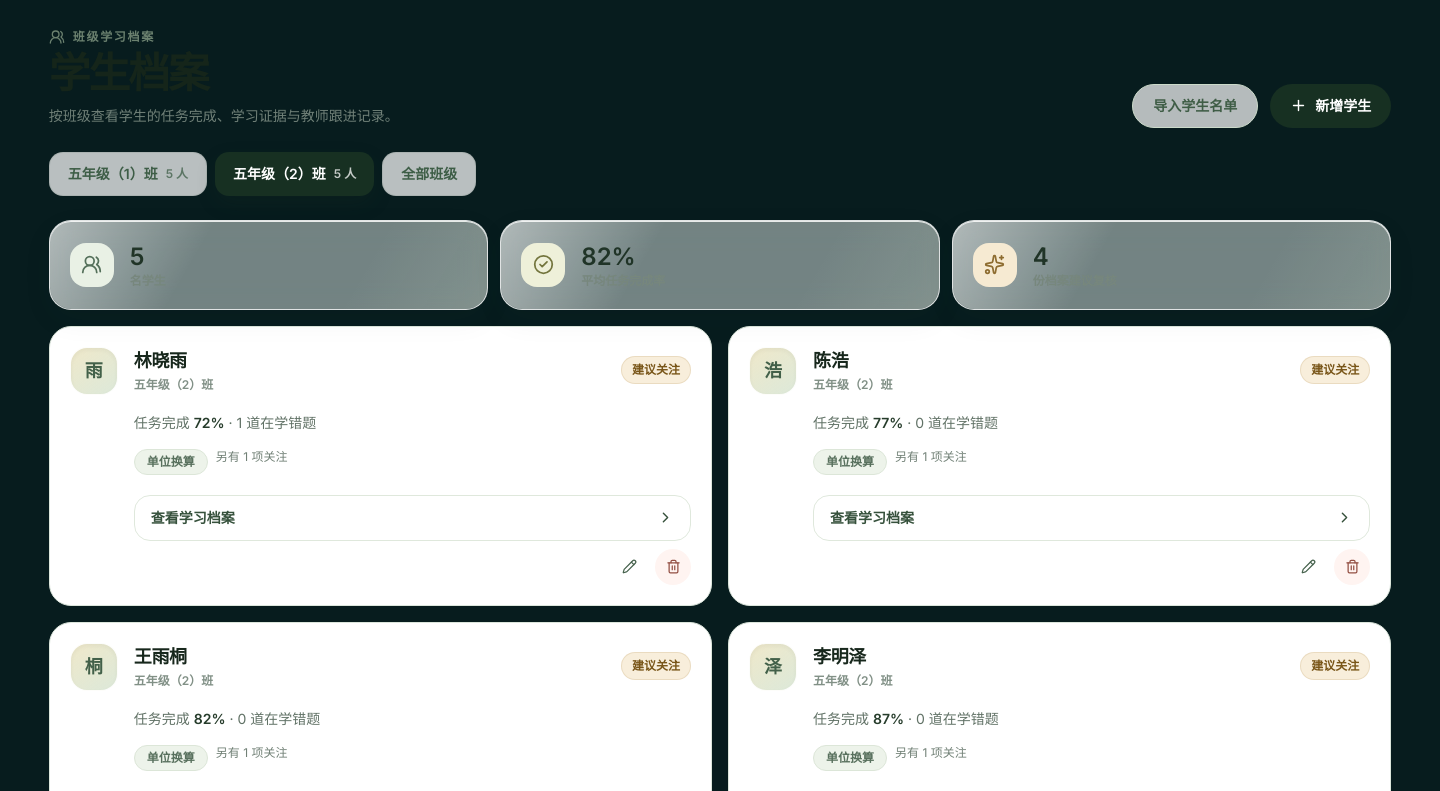
Test: keeps student cards within the selected class
Expected: the heading "林晓雨" is shown, [134,350,187,371]
Click the button "五年级（1）班 5 人" at (128, 174), box [49,152,207,196]
(page scrolled)
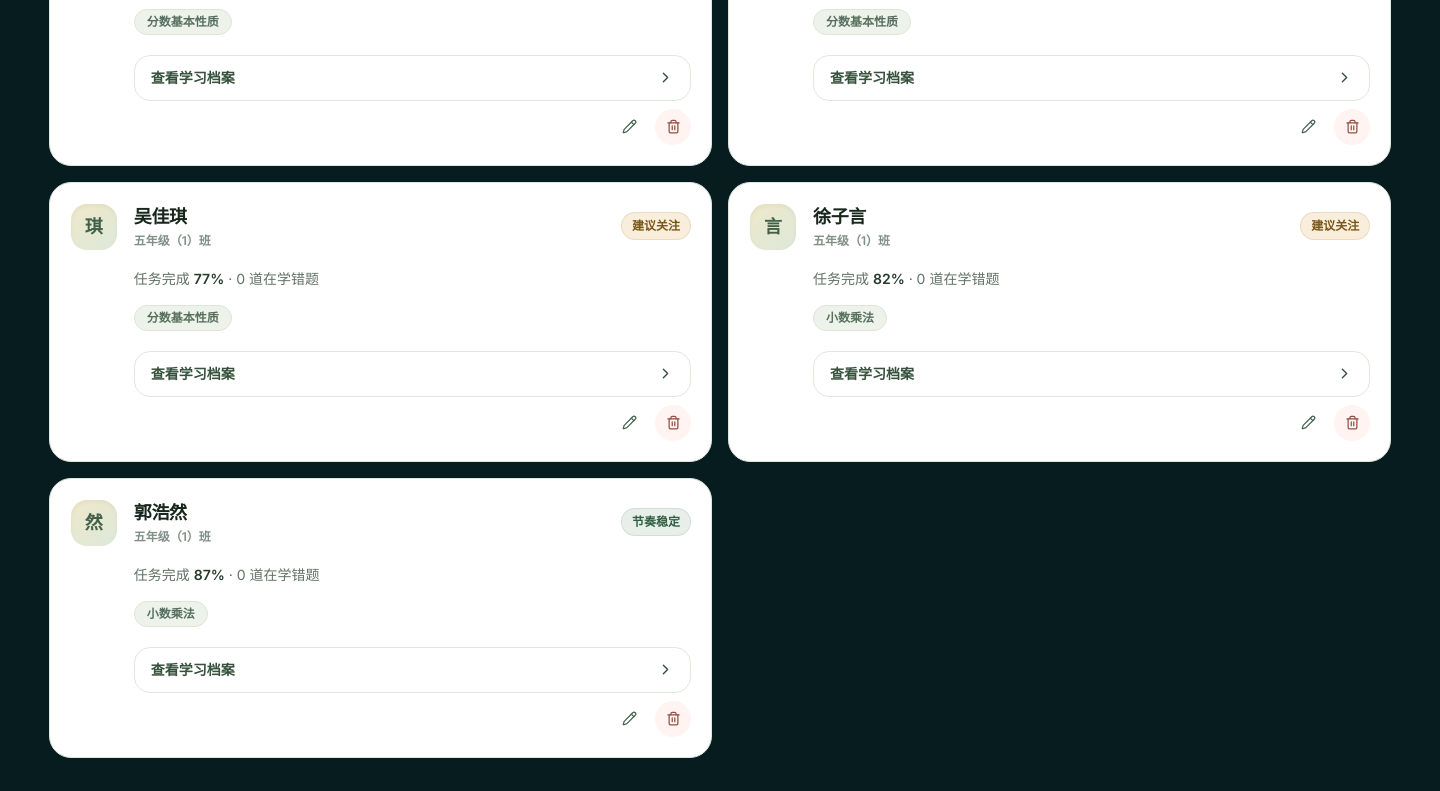
Now the heading "林晓雨" is gone
Now the heading "郭浩然" is shown, box [134,502,187,523]
